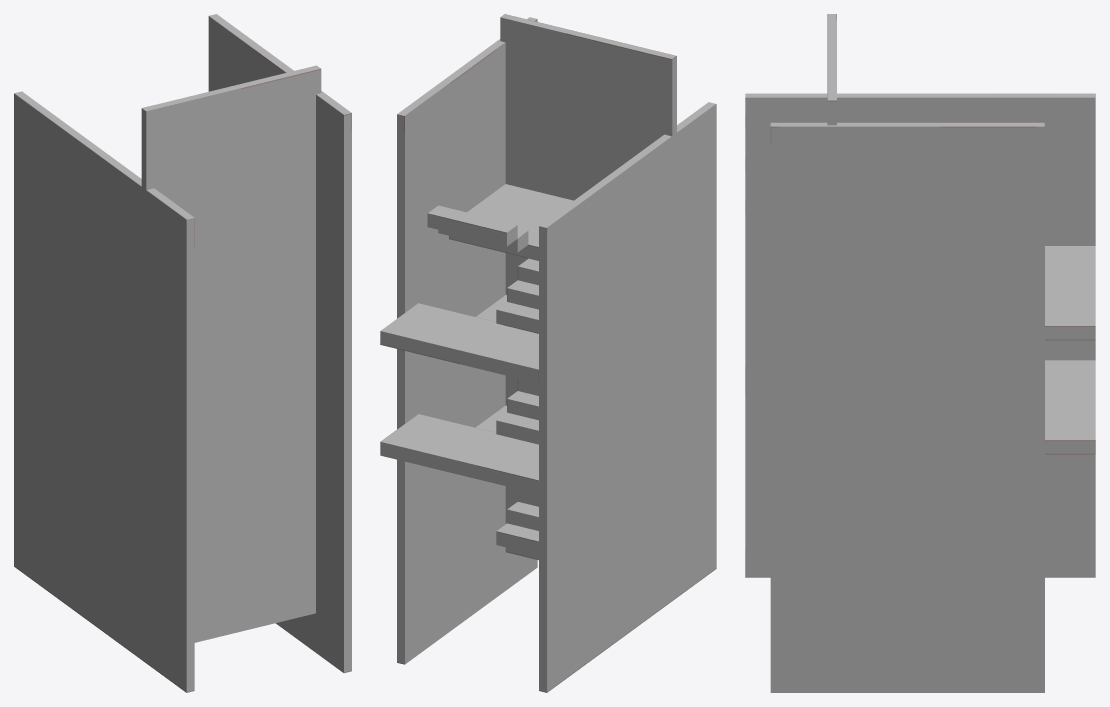
File: Stair.fbx
The picture shows the model from 3 angles, left to right: view 1: azimuth 30°, elevation 25°; view 2: azimuth 150°, elevation 25°; view 3: azimuth 270°, elevation 25°; orthographic projection. The views are drawn at different scales.
Visible parts, largest first — view 1: Stair.001; view 2: Stair.001; view 3: Stair.001.
Part boxes in pixels (x1,y1,x2,y2): Stair.001: [14, 14, 351, 692]; Stair.001: [380, 14, 716, 692]; Stair.001: [745, 14, 1095, 692].
Size of the model in its own units: 6.6 by 20.67 by 11.1.
Materials: 1 (1 with a texture image).
